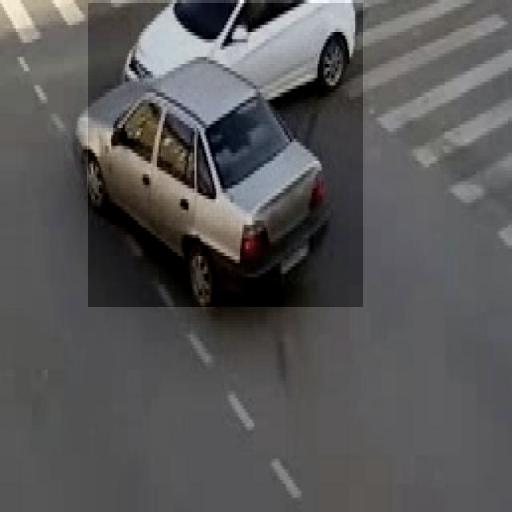小汽车撞小汽车: (88, 3, 363, 307)
